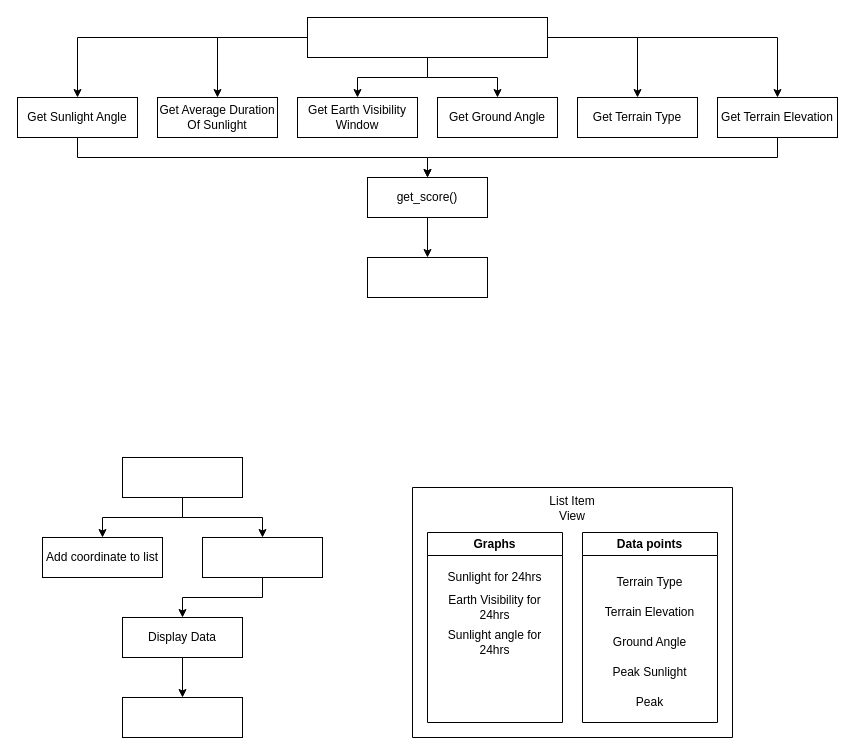
The diagram is 855 pixels wide and 755 high, and some of its shapes have lost their labels. The shapes that lost their labels are listed below. From the top down, each one's centre as x and y in pixels, then its label:
At (427,37): "/api/fetch-data?lat=...&long=...&time=...".
At (427,277): "Send back data + score".
At (182,477): "User Picks Coordinate".
At (262,557): "Call API".
At (182,717): "Calculate Relations".
